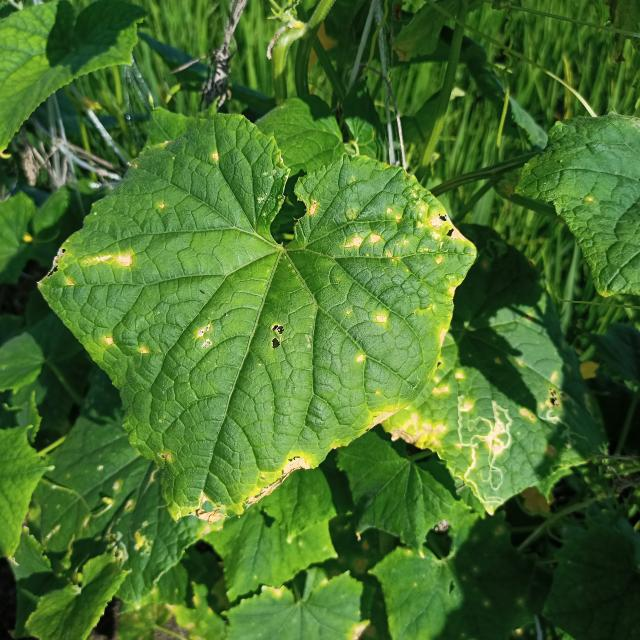disease_cucumber: (345, 192, 459, 267), (231, 450, 323, 511), (368, 396, 450, 454), (47, 245, 135, 292), (192, 324, 216, 352), (136, 344, 150, 358), (102, 334, 117, 347), (374, 314, 387, 326), (211, 152, 221, 165), (356, 355, 364, 370)
